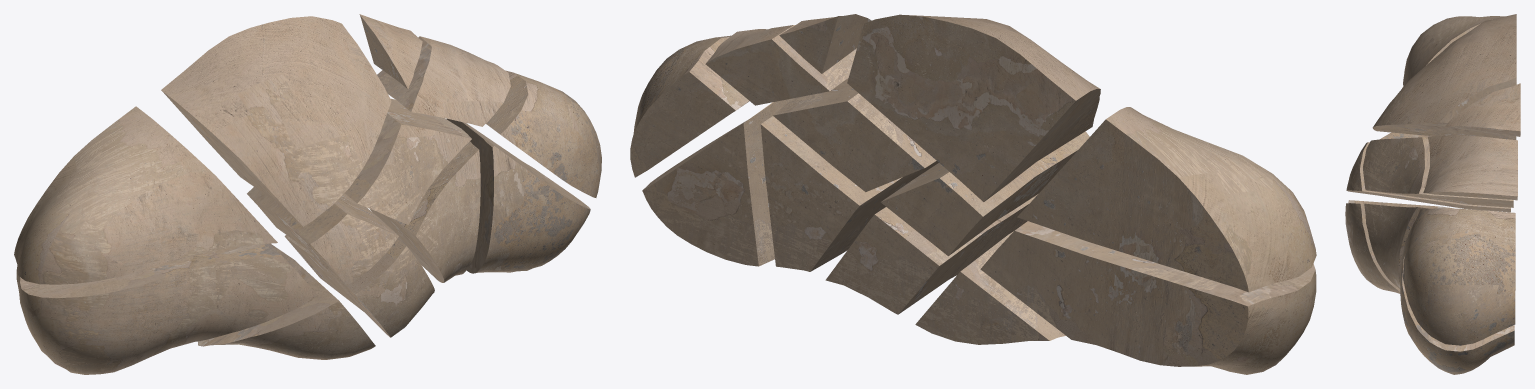
Rendered from bangs-broken.fbx.
3 renders of one model, left to right at view 1: azimuth 30°, elevation 25°; view 2: azimuth 150°, elevation 25°; view 3: azimuth 270°, elevation 25°, orthographic. The views are drawn at different scales.
Visible parts, largest first — view 1: bangs.002, bangs.004, bangs.001, bangs, bangs.006, bangs.008, bangs.011, bangs.005, bangs.003, bangs.010, bangs.007, bangs.009; view 2: bangs.004, bangs.002, bangs.001, bangs, bangs.011, bangs.007, bangs.006, bangs.008, bangs.010, bangs.003, bangs.005, bangs.009; view 3: bangs.008, bangs.002, bangs.005, bangs.006, bangs, bangs.011, bangs.009, bangs.004, bangs.007, bangs.010, bangs.003, bangs.001.
Boxes of the visible parts, box(x1,y1,x2,y2) form: bangs.002: box(161, 16, 391, 226); bangs.004: box(14, 106, 277, 284); bangs.001: box(16, 243, 318, 374); bangs: box(446, 118, 590, 273); bangs.006: box(345, 98, 471, 224); bangs.008: box(486, 70, 601, 197); bangs.011: box(370, 141, 480, 282); bangs.005: box(377, 36, 510, 126); bangs.003: box(198, 243, 375, 359); bangs.010: box(247, 187, 398, 285); bangs.007: box(284, 235, 434, 337); bangs.009: box(359, 14, 422, 89); bangs.004: box(1017, 107, 1316, 292); bangs.002: box(847, 14, 1100, 201); bangs.001: box(980, 221, 1316, 374); bangs: box(642, 98, 792, 266); bangs.011: box(760, 116, 938, 271); bangs.007: box(825, 194, 1037, 314); bangs.006: box(773, 78, 936, 192); bangs.008: box(630, 35, 749, 177); bangs.010: box(881, 131, 1089, 256); bangs.003: box(915, 231, 1065, 344); bangs.005: box(705, 25, 856, 105); bangs.009: box(779, 14, 871, 73); bangs.008: box(1403, 208, 1515, 345); bangs.002: box(1372, 14, 1516, 139); bangs.005: box(1423, 135, 1517, 200); bangs.006: box(1363, 137, 1513, 207); bangs: box(1400, 220, 1514, 374); bangs.011: box(1364, 203, 1428, 288); bangs.009: box(1445, 83, 1520, 136); bangs.004: box(1403, 16, 1504, 136); bangs.007: box(1345, 203, 1400, 293); bangs.010: box(1346, 142, 1510, 212); bangs.003: box(1348, 200, 1453, 208); bangs.001: box(1380, 86, 1427, 139).
Size of the model in its own units: 10.49 by 4.87 by 3.12.
